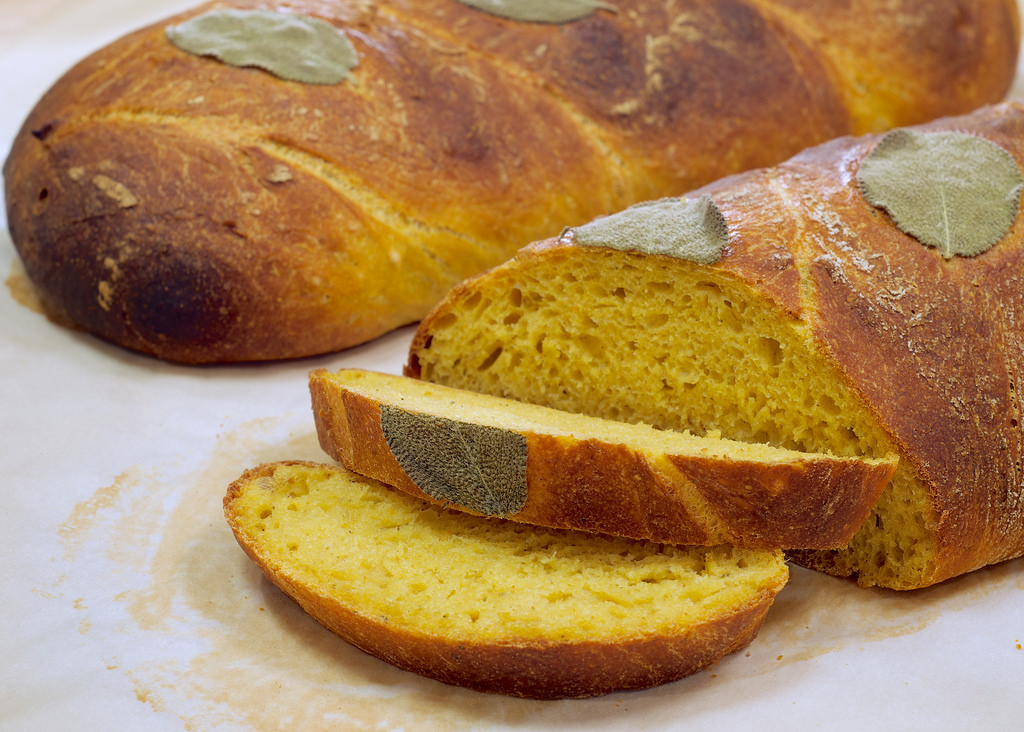slice of bread: (32, 9, 1023, 690), (214, 465, 785, 702), (291, 369, 923, 565)
